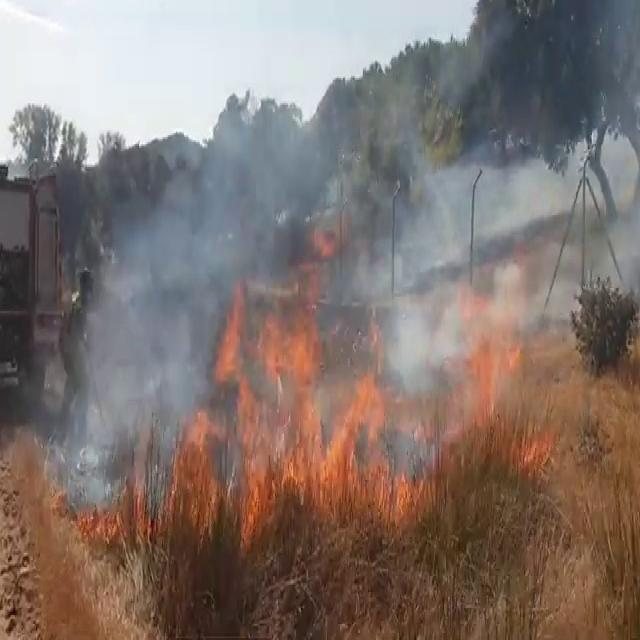Fire: (145, 278, 417, 536), (463, 293, 525, 427)
Smoke: (292, 0, 640, 311), (58, 164, 220, 486), (491, 419, 502, 420)
